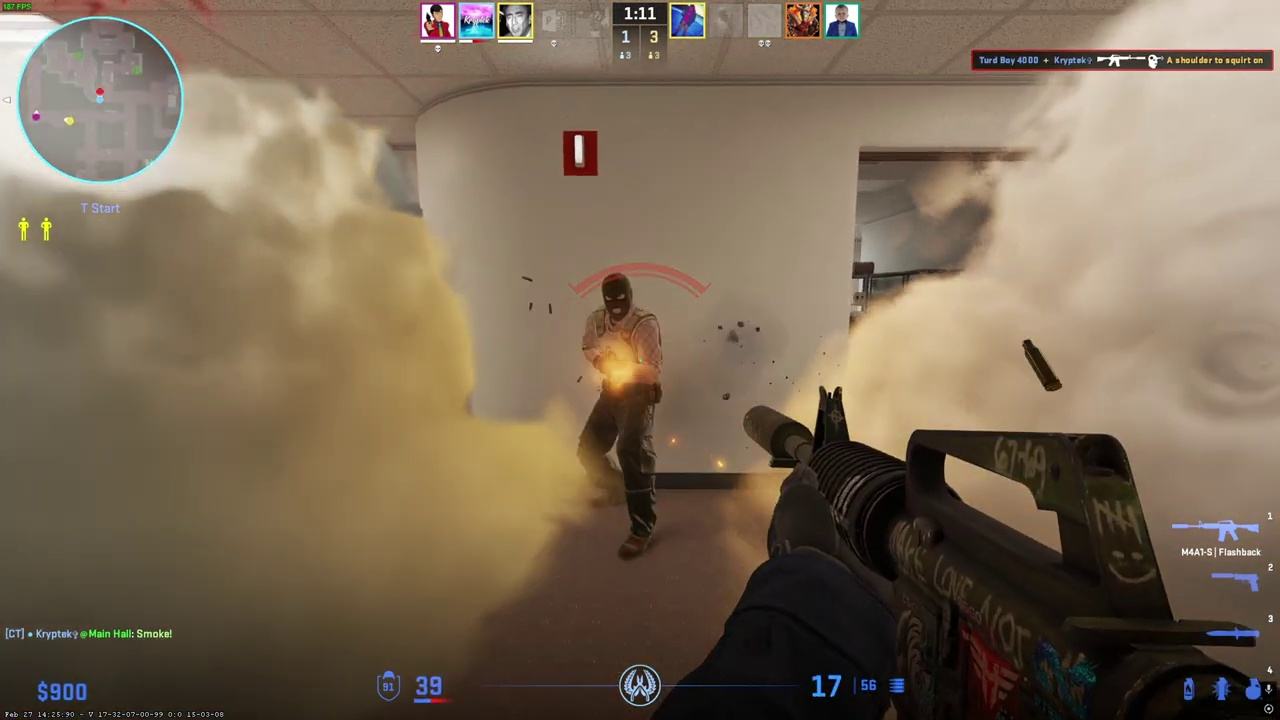Terrorist: (576, 273, 663, 556)
